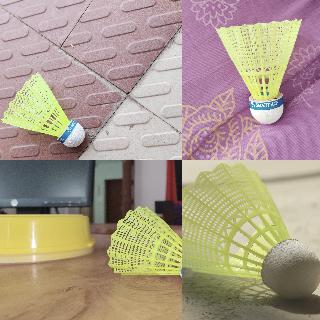shuttlecock: (182, 163, 319, 299), (215, 19, 302, 123), (0, 72, 84, 146), (106, 206, 181, 286)
